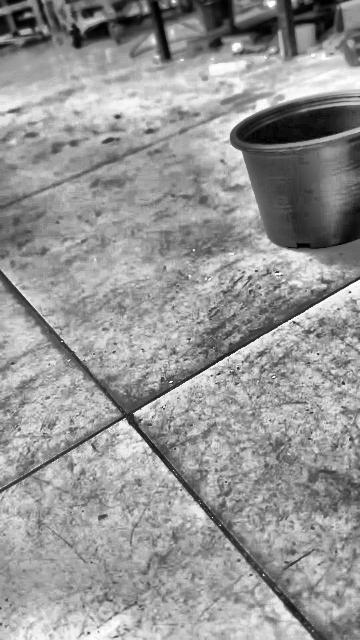pot: (230, 91, 360, 248)
